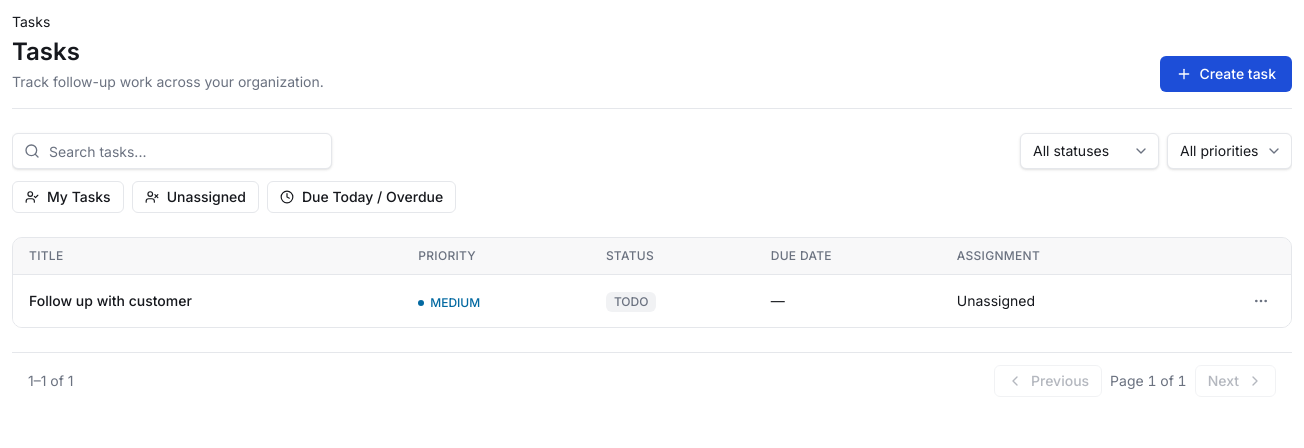
TasksListPage › RBAC visibility — Tasks intentionally differs from the Customer/Lead/Product pattern › MANAGER sees Create task, Edit, and Cancel
The width and height of the screenshot is (1304, 448).
Expected: the link "Follow up with customer" is shown, left=29, top=292, right=192, bottom=309
Click the button named "Actions for Follow up with customer" at (1261, 301), box left=1247, top=287, right=1275, bottom=315
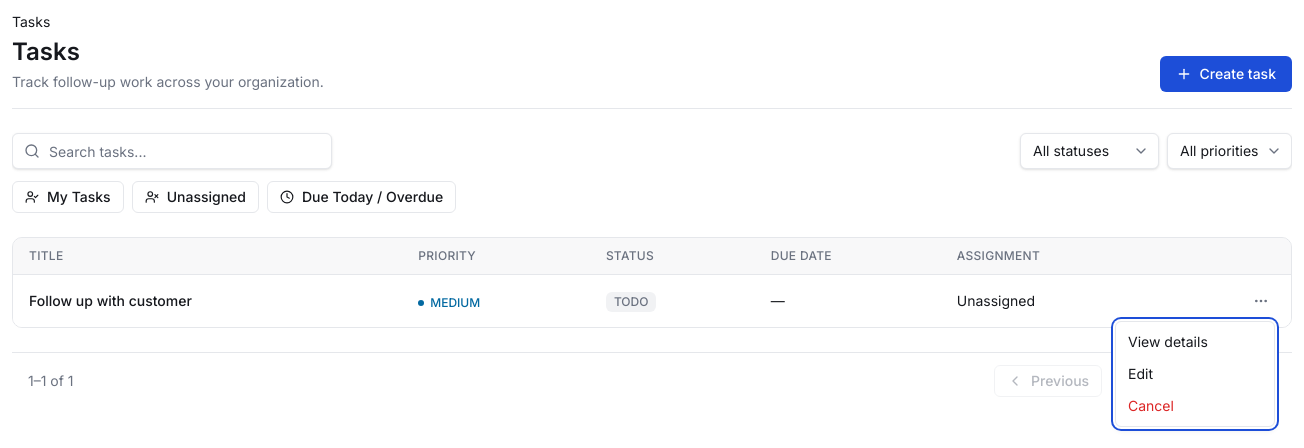
Expected: the menu item "Edit" is shown, left=1128, top=365, right=1153, bottom=382
Expected: the menu item "Cancel" is shown, left=1128, top=397, right=1174, bottom=414
